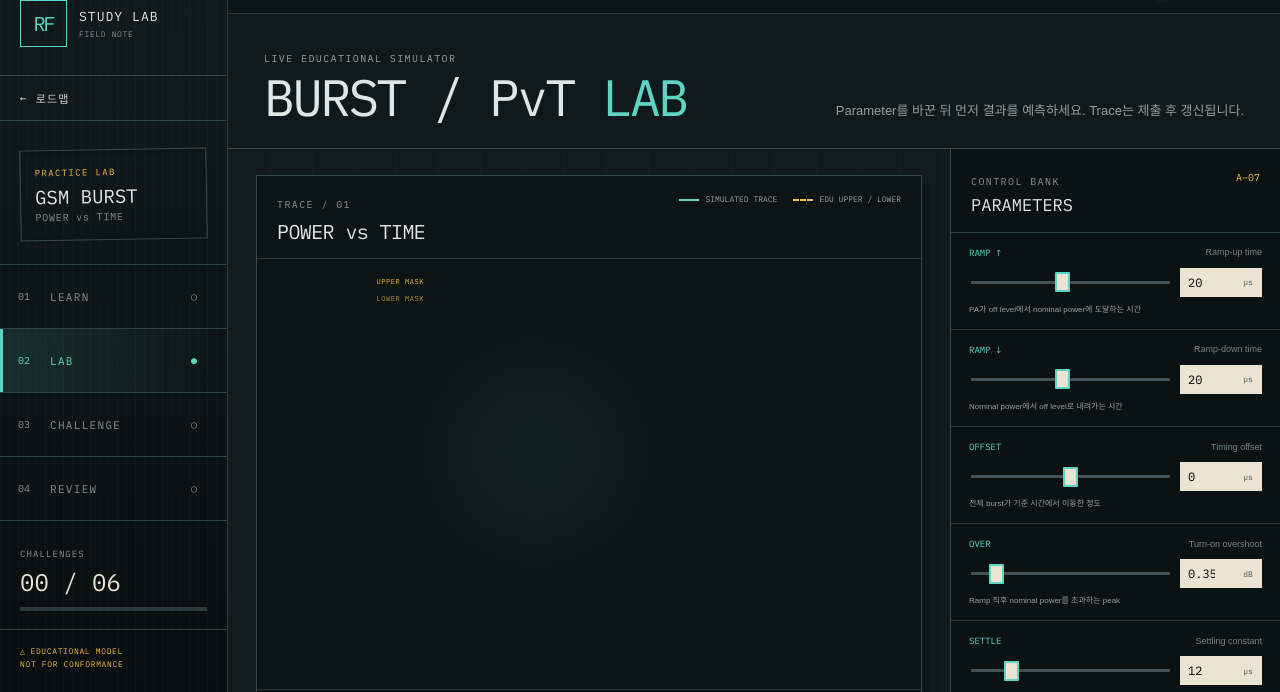
Test: RF Study Lab learning flow › requires a prediction before evaluating changed parameters
Replace the text in the number field named "Turn-on overshoot" with "2.8" at [1207, 574], box left=1180, top=559, right=1234, bottom=588
(page scrolled)
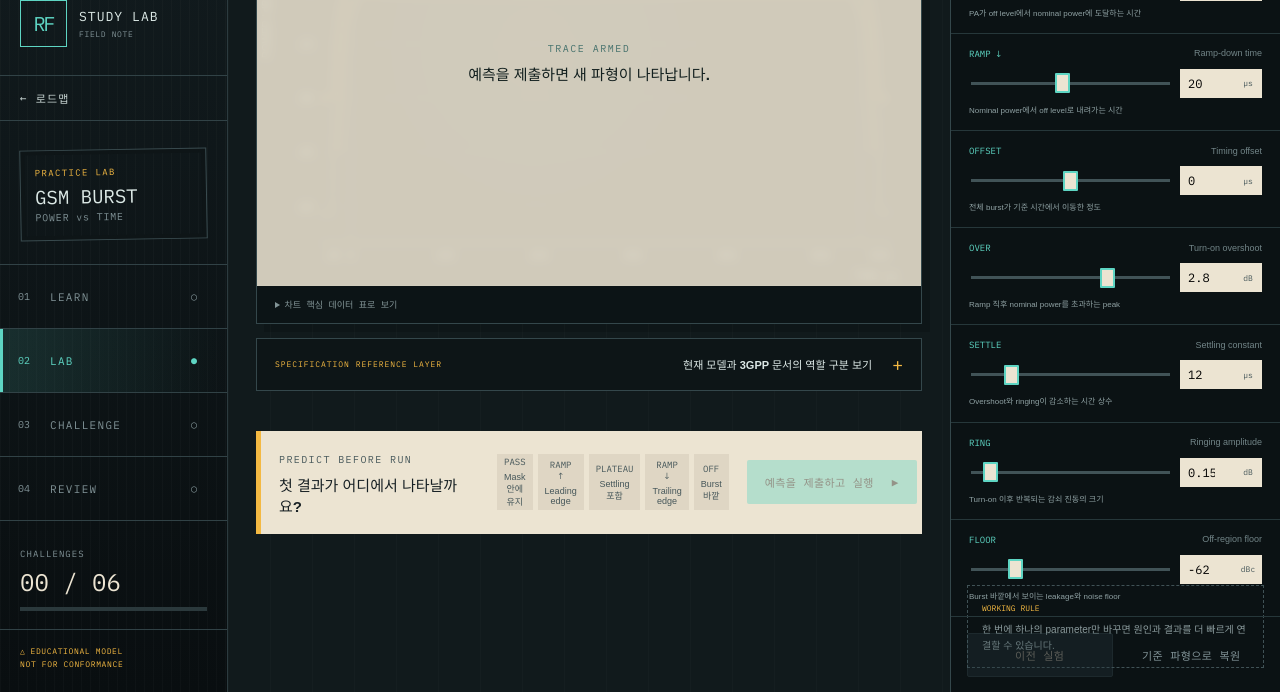
Expected: the text "TRACE ARMED" is shown, left=548, top=42, right=630, bottom=55
Click the button "PLATEAU Settling 포함".
click(615, 482)  # box left=589, top=454, right=640, bottom=510
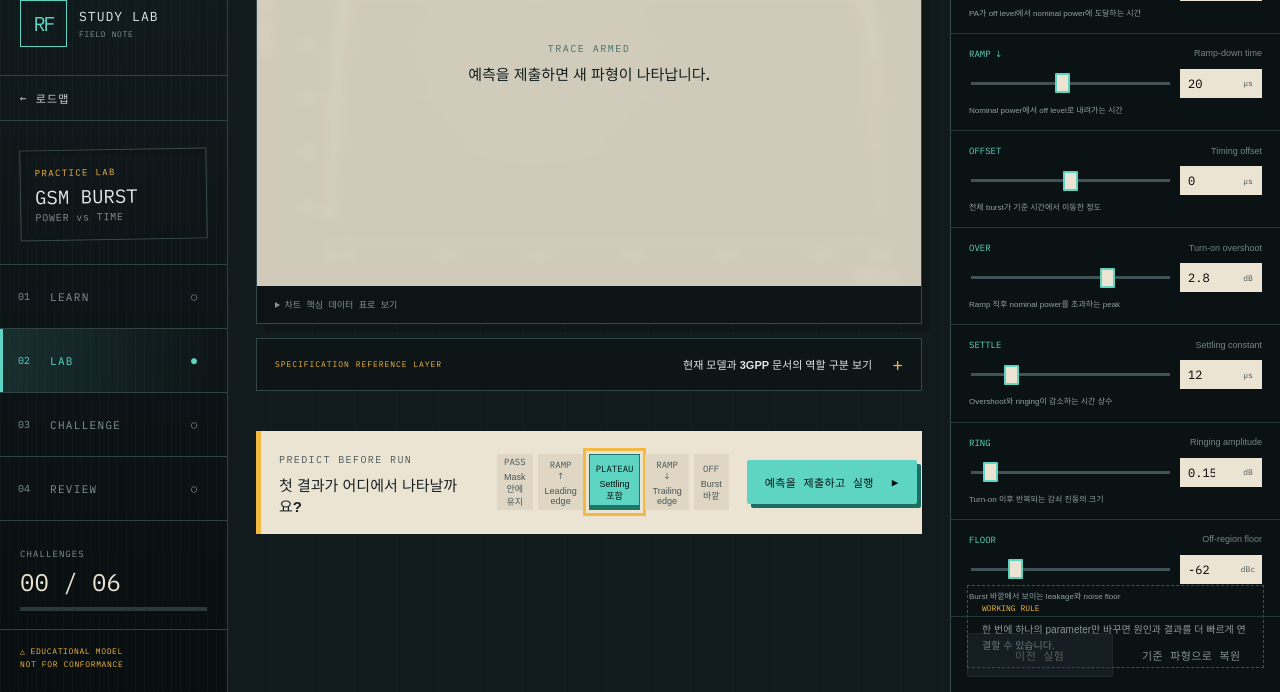
Expected: the button "예측을 제출하고 실행 ▶" is enabled
Click the button "예측을 제출하고 실행 ▶".
click(832, 482)  # box left=747, top=460, right=917, bottom=504
(page scrolled)
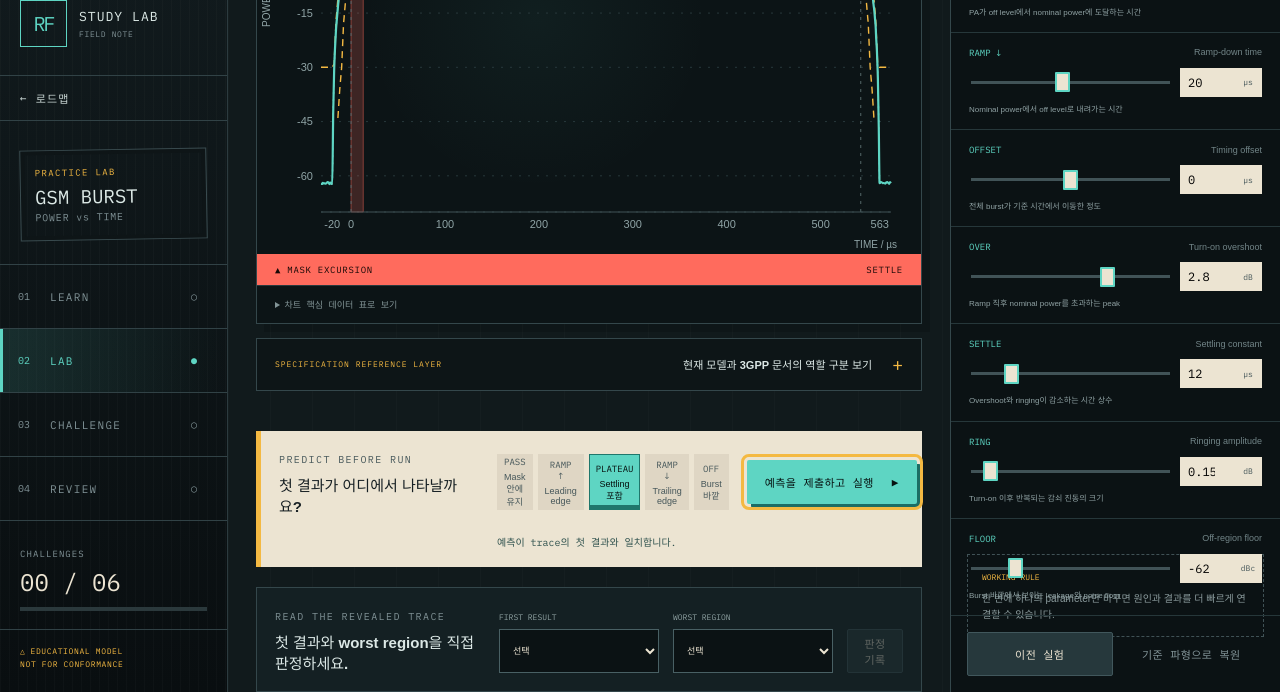
Expected: the text "예측이 trace의 첫 결과와 일치합니다." is shown, left=497, top=536, right=677, bottom=549
Select "EARLY SETTLE" in the dropdown named "첫 결과 region" at [579, 651], box left=499, top=629, right=659, bottom=673
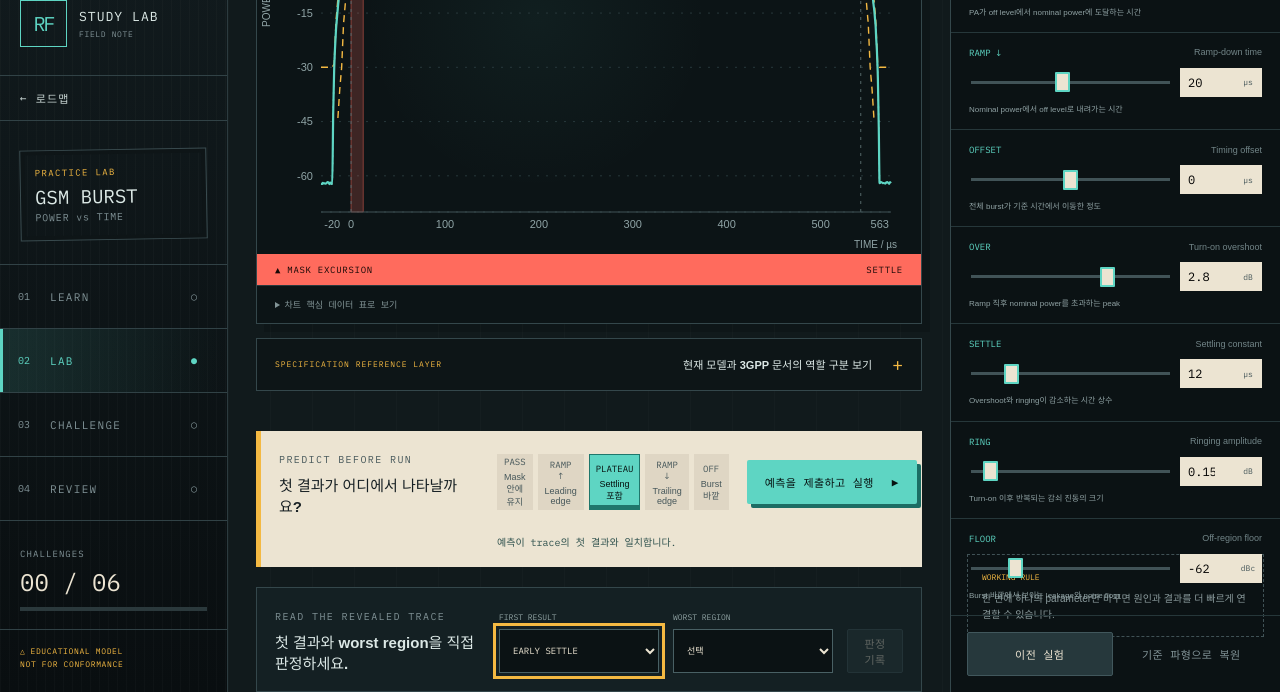
Select "EARLY SETTLE" in the dropdown labelled "WORST REGION" at [753, 651], box left=673, top=629, right=833, bottom=673
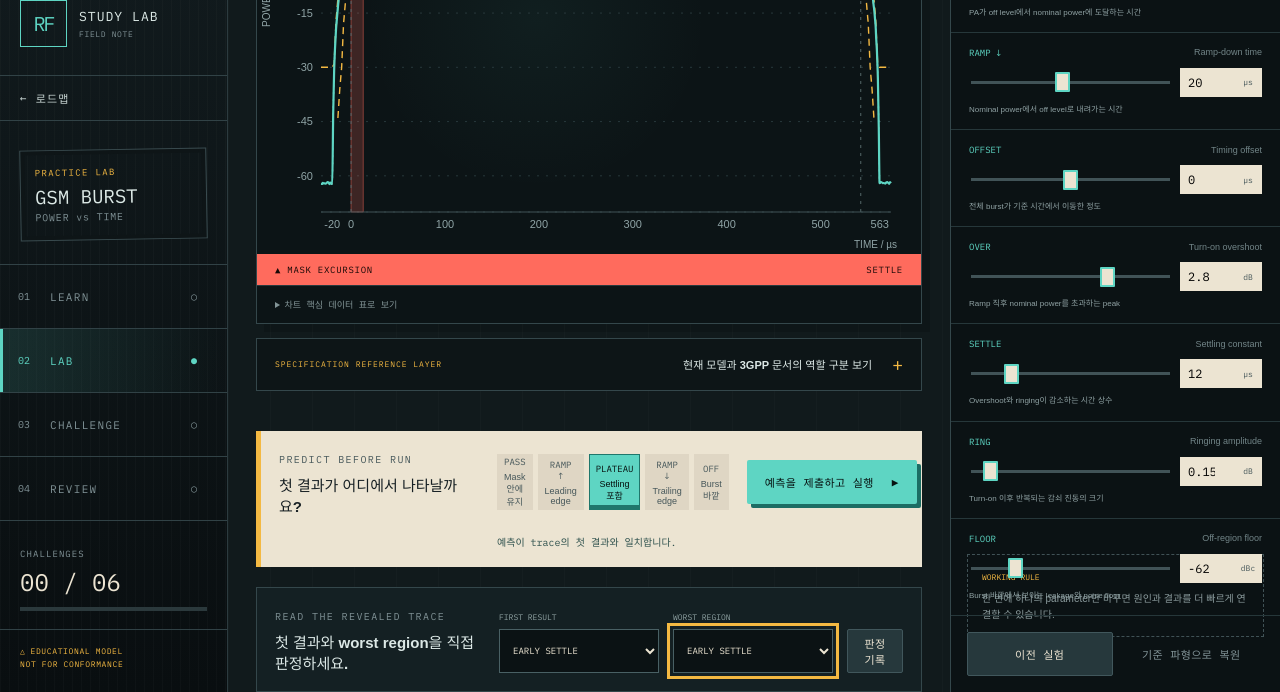
Click the button "판정 기록".
click(875, 651)  # box left=847, top=629, right=903, bottom=673
(page scrolled)
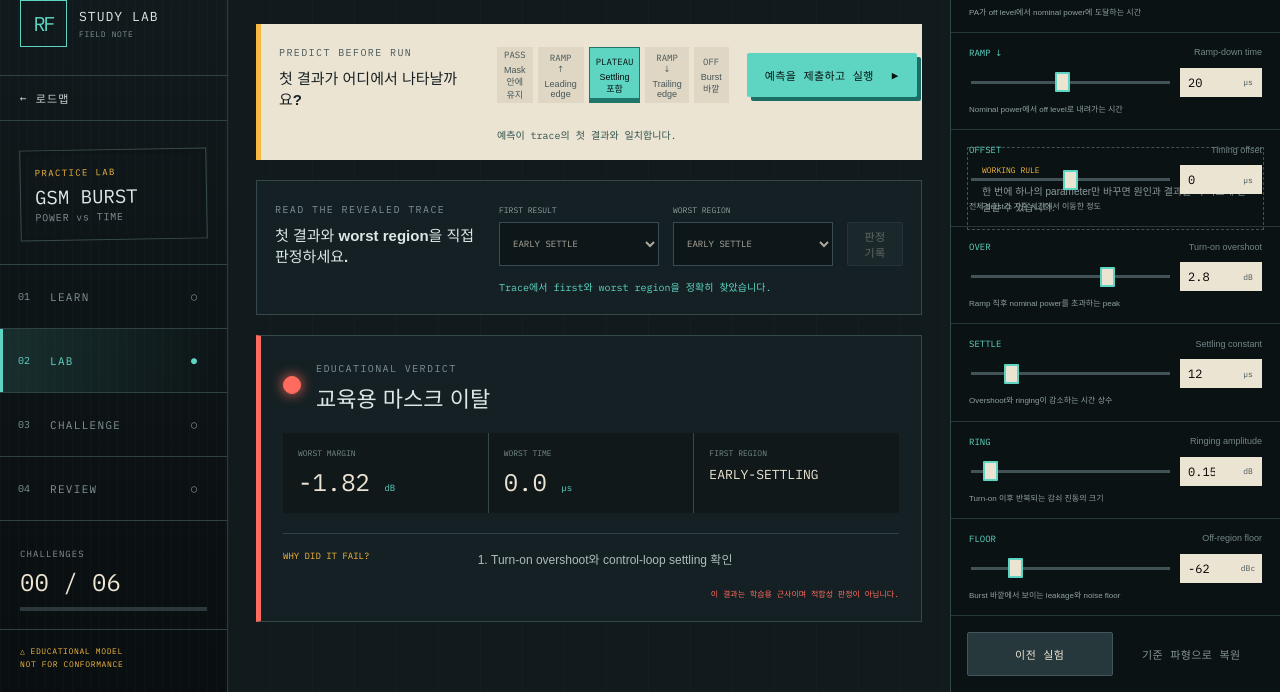
Expected: the heading "교육용 마스크 이탈" is shown, left=316, top=381, right=490, bottom=413
